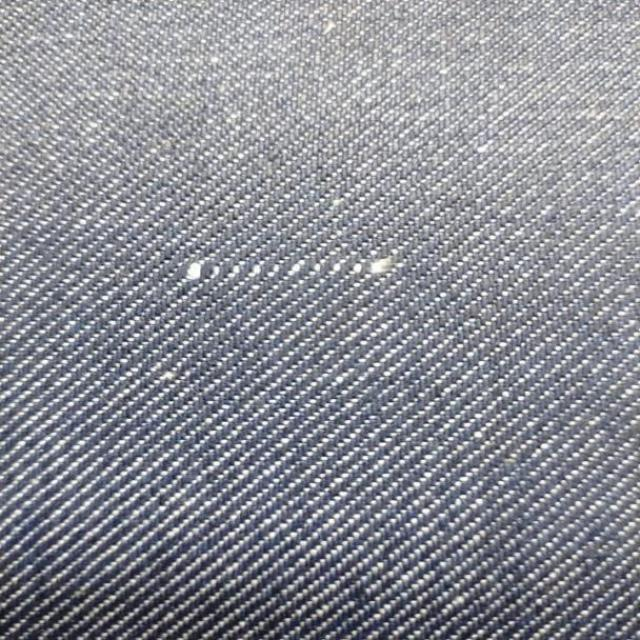Knot: (286, 255, 398, 277), (185, 260, 222, 281), (247, 262, 265, 277), (228, 263, 247, 276), (268, 263, 283, 275)
